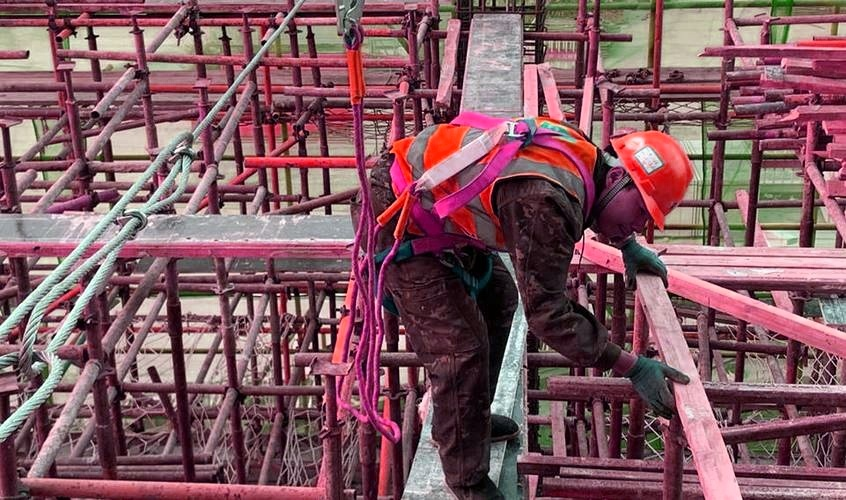safety belt: (397, 112, 599, 268)
